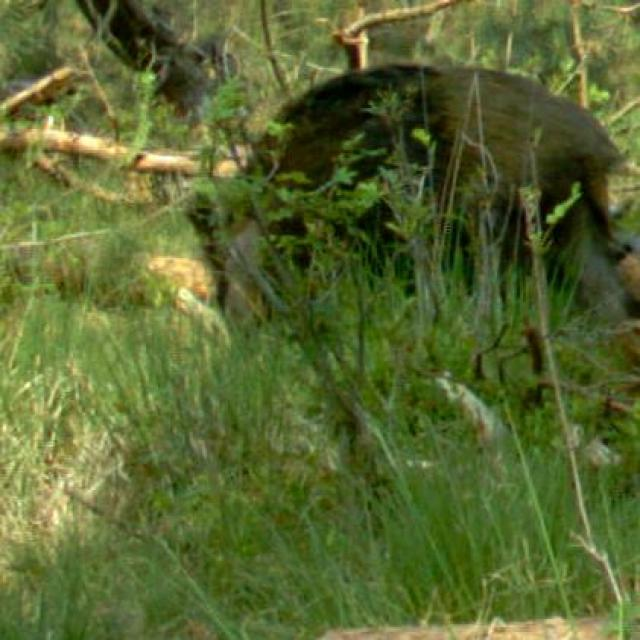pig: (153, 25, 622, 360)
